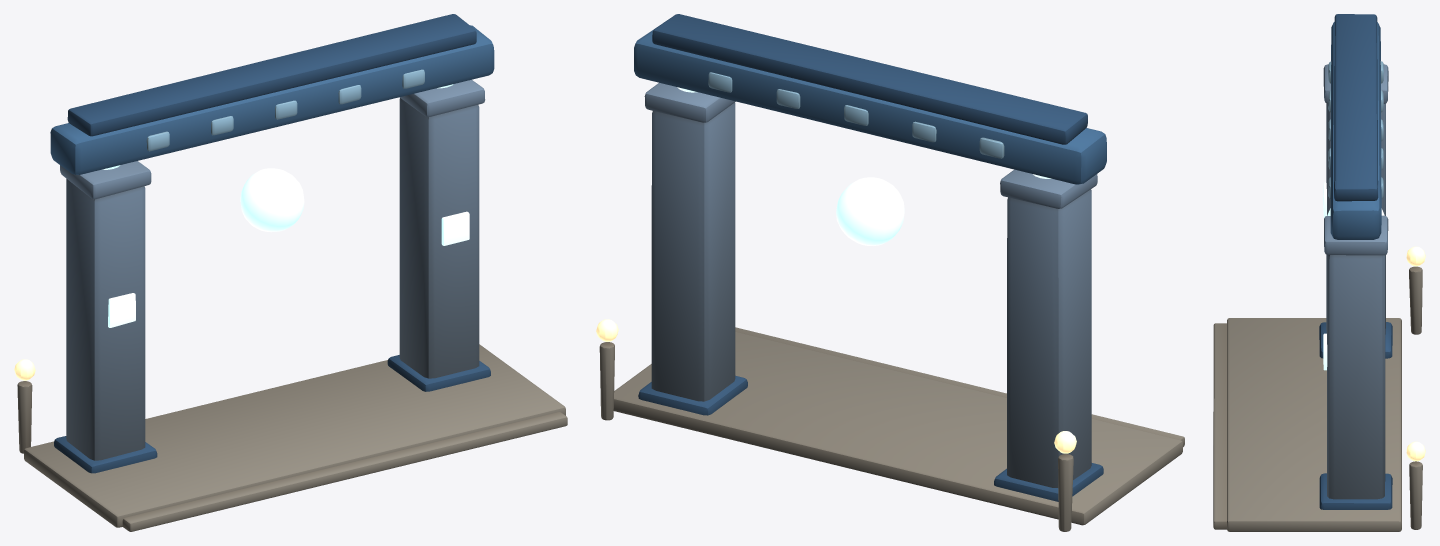
3 renders of one model, left to right at view 1: azimuth 30°, elevation 25°; view 2: azimuth 150°, elevation 25°; view 3: azimuth 270°, elevation 25°, orthographic. The views are drawn at different scales.
Visible parts, largest first — view 1: gate_6b2d4d2e; view 2: gate_6b2d4d2e; view 3: gate_6b2d4d2e.
Boxes of the visible parts, x1,y1,x2,y2 form: gate_6b2d4d2e: [14, 14, 567, 531]; gate_6b2d4d2e: [596, 14, 1184, 531]; gate_6b2d4d2e: [1213, 14, 1425, 531].
Bounding box in the file's own units: 5.79 × 4.38 × 2.54.
